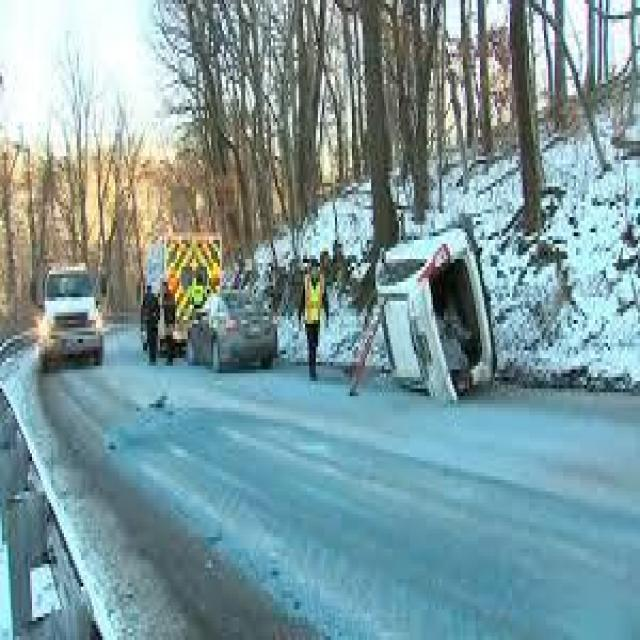severe: (366, 217, 499, 412)
